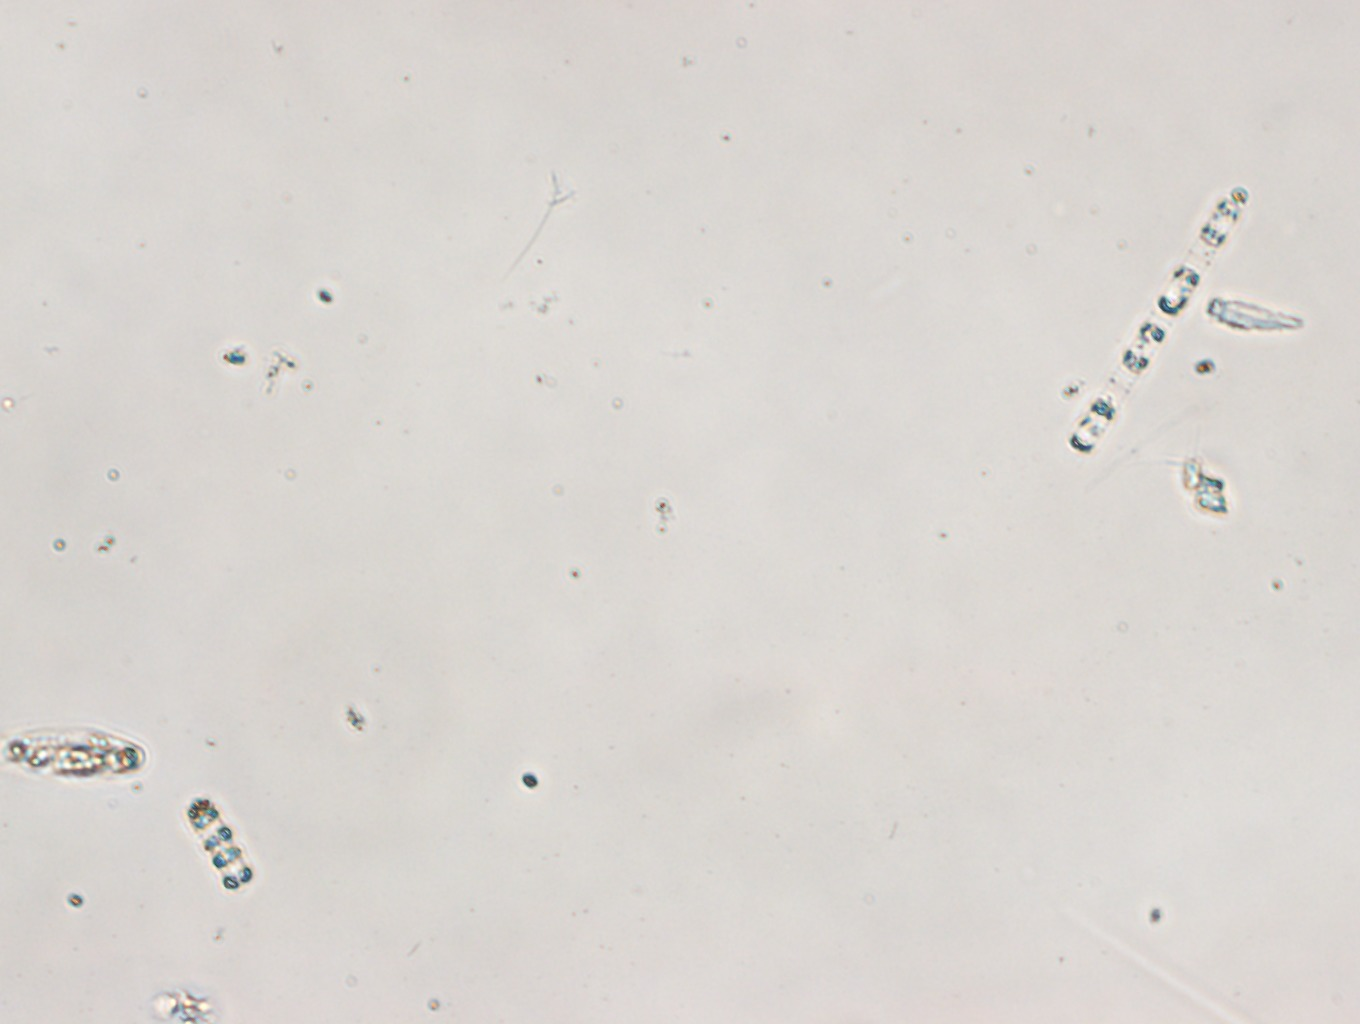skeletonema: (1068, 181, 1250, 455), (184, 799, 255, 894)
